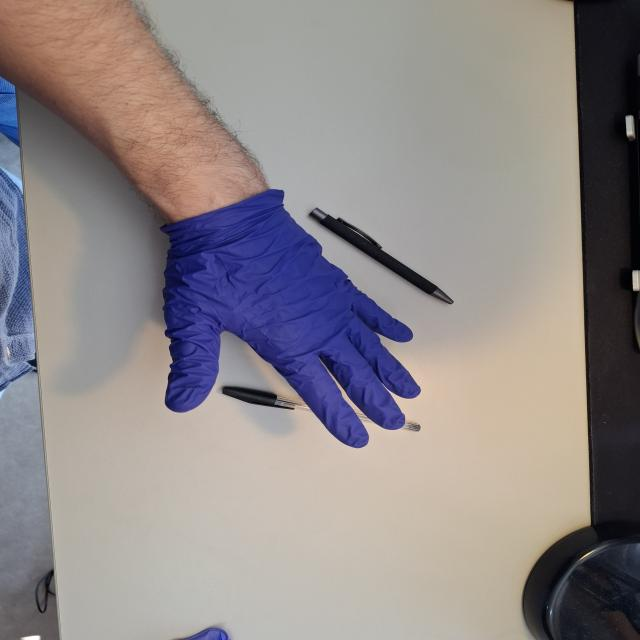glove_on: (156, 184, 424, 450)
